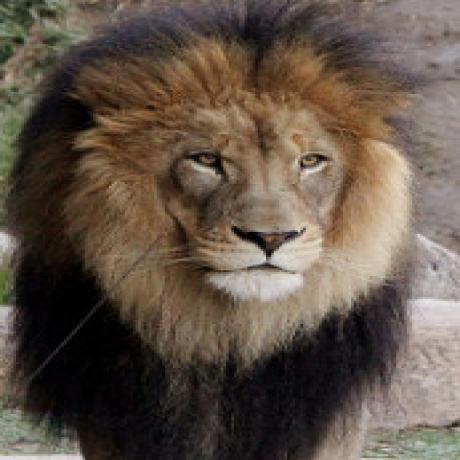Lion: (0, 0, 442, 460)
